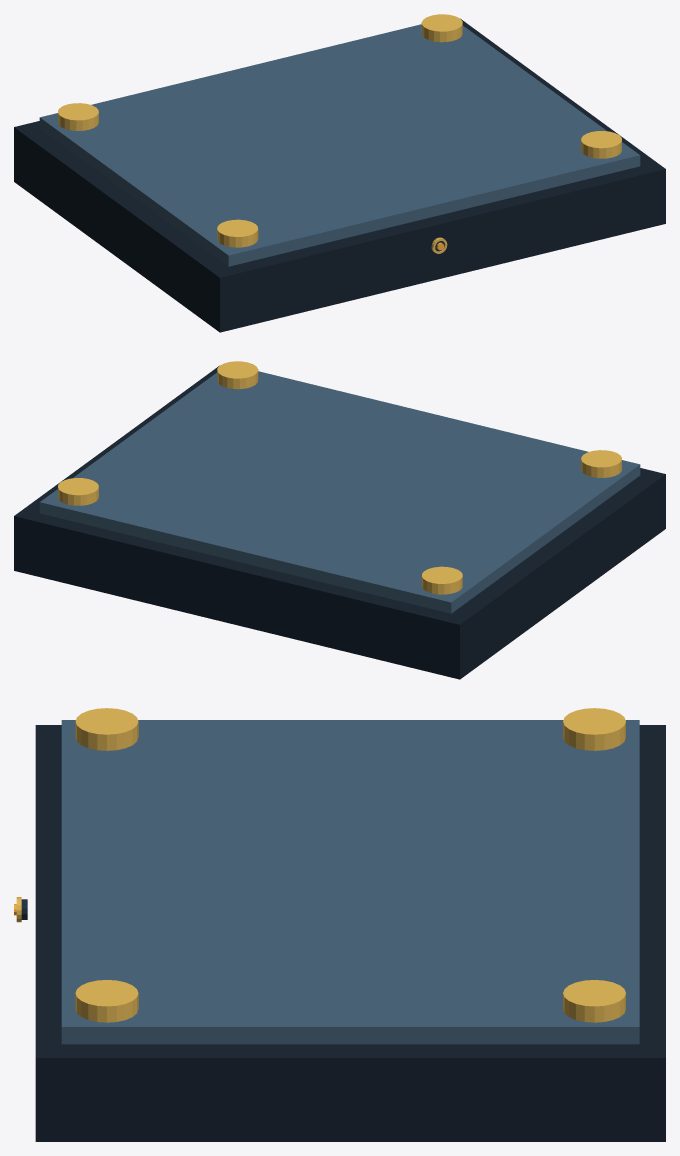
Rendered from 02_L81_FourChipletMissionComputerCarrier.fbx.
3 views of the same model, one above another, from view 1: azimuth 30°, elevation 25°; view 2: azimuth 150°, elevation 25°; view 3: azimuth 270°, elevation 25° (orthographic). The views are drawn at different scales.
Visible parts, largest first — view 1: FourChipletMissionComputerCarrier; view 2: FourChipletMissionComputerCarrier; view 3: FourChipletMissionComputerCarrier.
Boxes of the visible parts, <box> form: FourChipletMissionComputerCarrier: <box>14,14,665,332</box>; FourChipletMissionComputerCarrier: <box>14,361,665,679</box>; FourChipletMissionComputerCarrier: <box>14,708,665,1141</box>.
Bounding box in the file's own units: 375 × 62 × 310.
